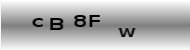8: (72, 14, 86, 28)
B: (48, 17, 64, 31)
F: (88, 14, 101, 28)
c: (31, 16, 44, 28)
w: (118, 25, 136, 39)
